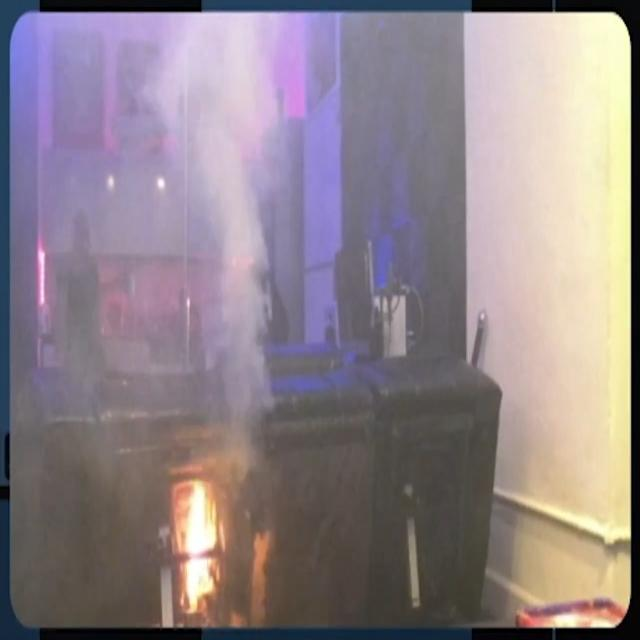Fire: (172, 480, 225, 594)
Smoke: (168, 23, 296, 443)
